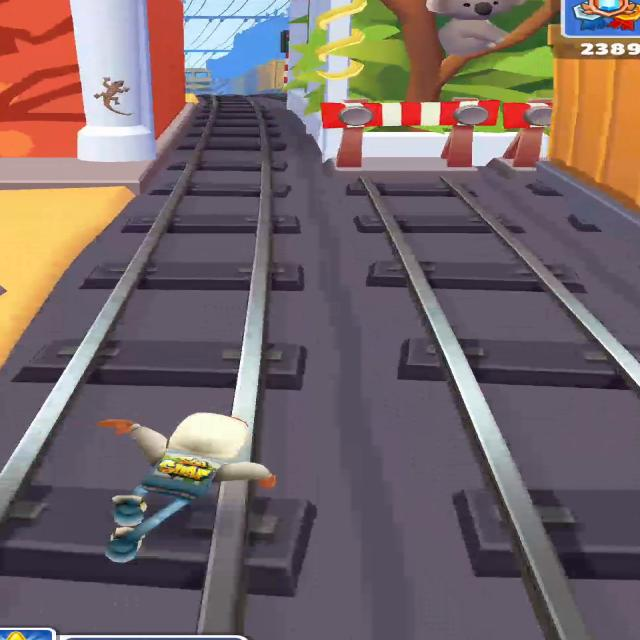block pillar: (287, 0, 570, 178)
train: (257, 60, 286, 91), (186, 68, 217, 93)
